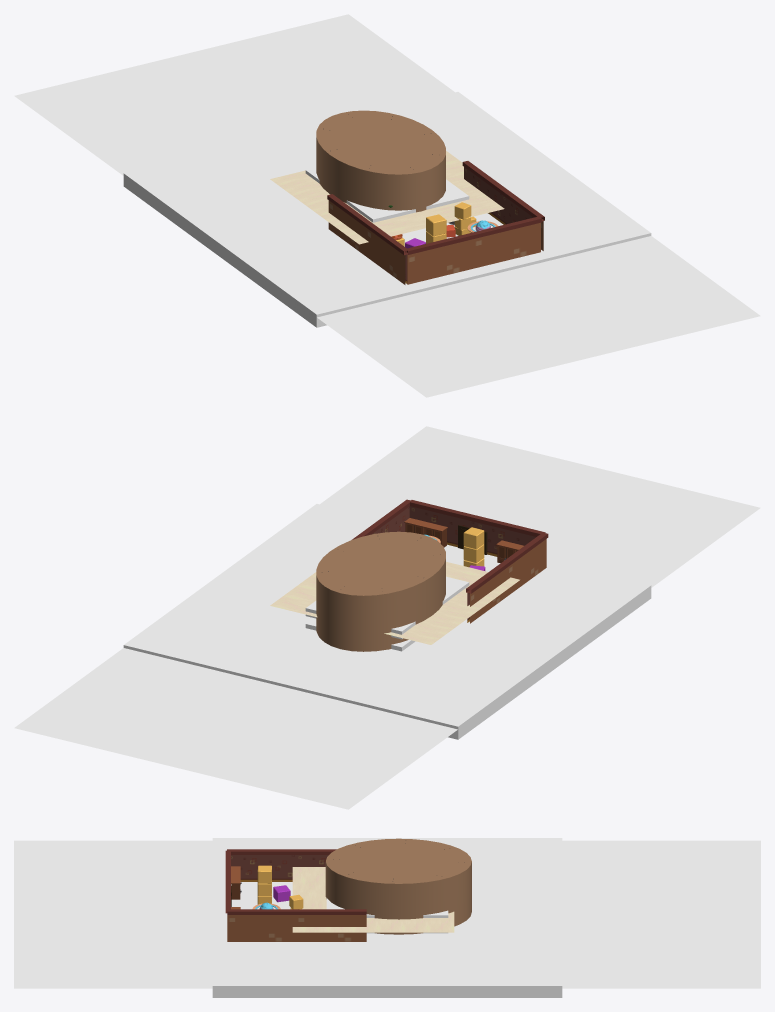
The model's file is Level Themes Controller.fbx.
The picture shows the model from 3 angles, top to bottom: view 1: azimuth 30°, elevation 25°; view 2: azimuth 150°, elevation 25°; view 3: azimuth 270°, elevation 25°; orthographic projection. The views are drawn at different scales.
Parts seen in each view (by area): view 1: Ground (×2), Fall Trigger (×2), Walls, Wall 01A (×4), Fall Trigger (1); view 2: Ground (×2), Fall Trigger (×2), Walls, Wall 01A (×2), Wall 01B (×2), Fall Trigger (1); view 3: Ground (×2), Fall Trigger, Walls, Wall 01A (×2), Fall Trigger (1), Wall 01B (×2), Wall 01 Beam (×3).
Part boxes in pixels (x1,y1,x2,y2): Ground (×2): (14, 14, 760, 397); Fall Trigger (×2): (123, 92, 651, 321); Walls: (316, 110, 445, 212); Wall 01A (×4): (328, 200, 540, 284); Fall Trigger (1): (123, 180, 326, 327); Ground (×2): (14, 426, 760, 809); Fall Trigger (×2): (123, 504, 651, 733); Walls: (316, 531, 445, 651); Wall 01A (×2): (470, 539, 546, 623); Wall 01B (×2): (409, 506, 535, 556); Fall Trigger (1): (448, 592, 651, 739); Ground (×2): (14, 840, 760, 988); Fall Trigger: (212, 838, 562, 992); Walls: (325, 838, 471, 934); Wall 01A (×2): (227, 915, 366, 941); Fall Trigger (1): (212, 992, 562, 997); Wall 01B (×2): (231, 855, 328, 881); Wall 01 Beam (×3): (227, 849, 366, 914).
Size of the model in its own units: 200 by 53.42 by 427.
24 materials, 14 textured.
